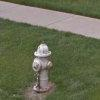Hydrant: (26, 32, 64, 95)
